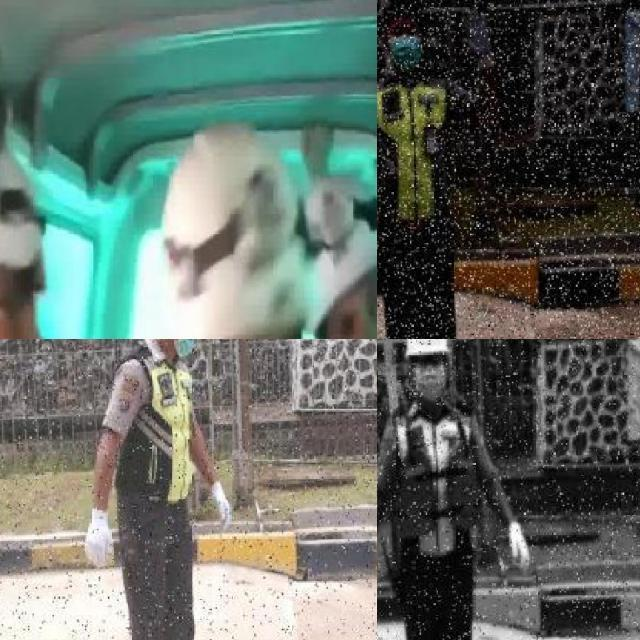apron: (80, 502, 116, 574), (460, 5, 496, 72), (504, 518, 534, 570), (208, 476, 232, 536)
